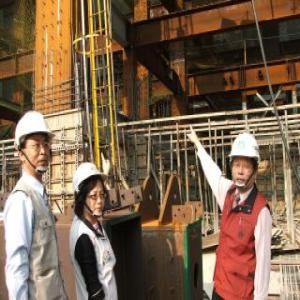white: (12, 109, 58, 178), (72, 162, 108, 220), (228, 134, 262, 190)
